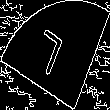L_SW: (36, 25, 74, 85)
